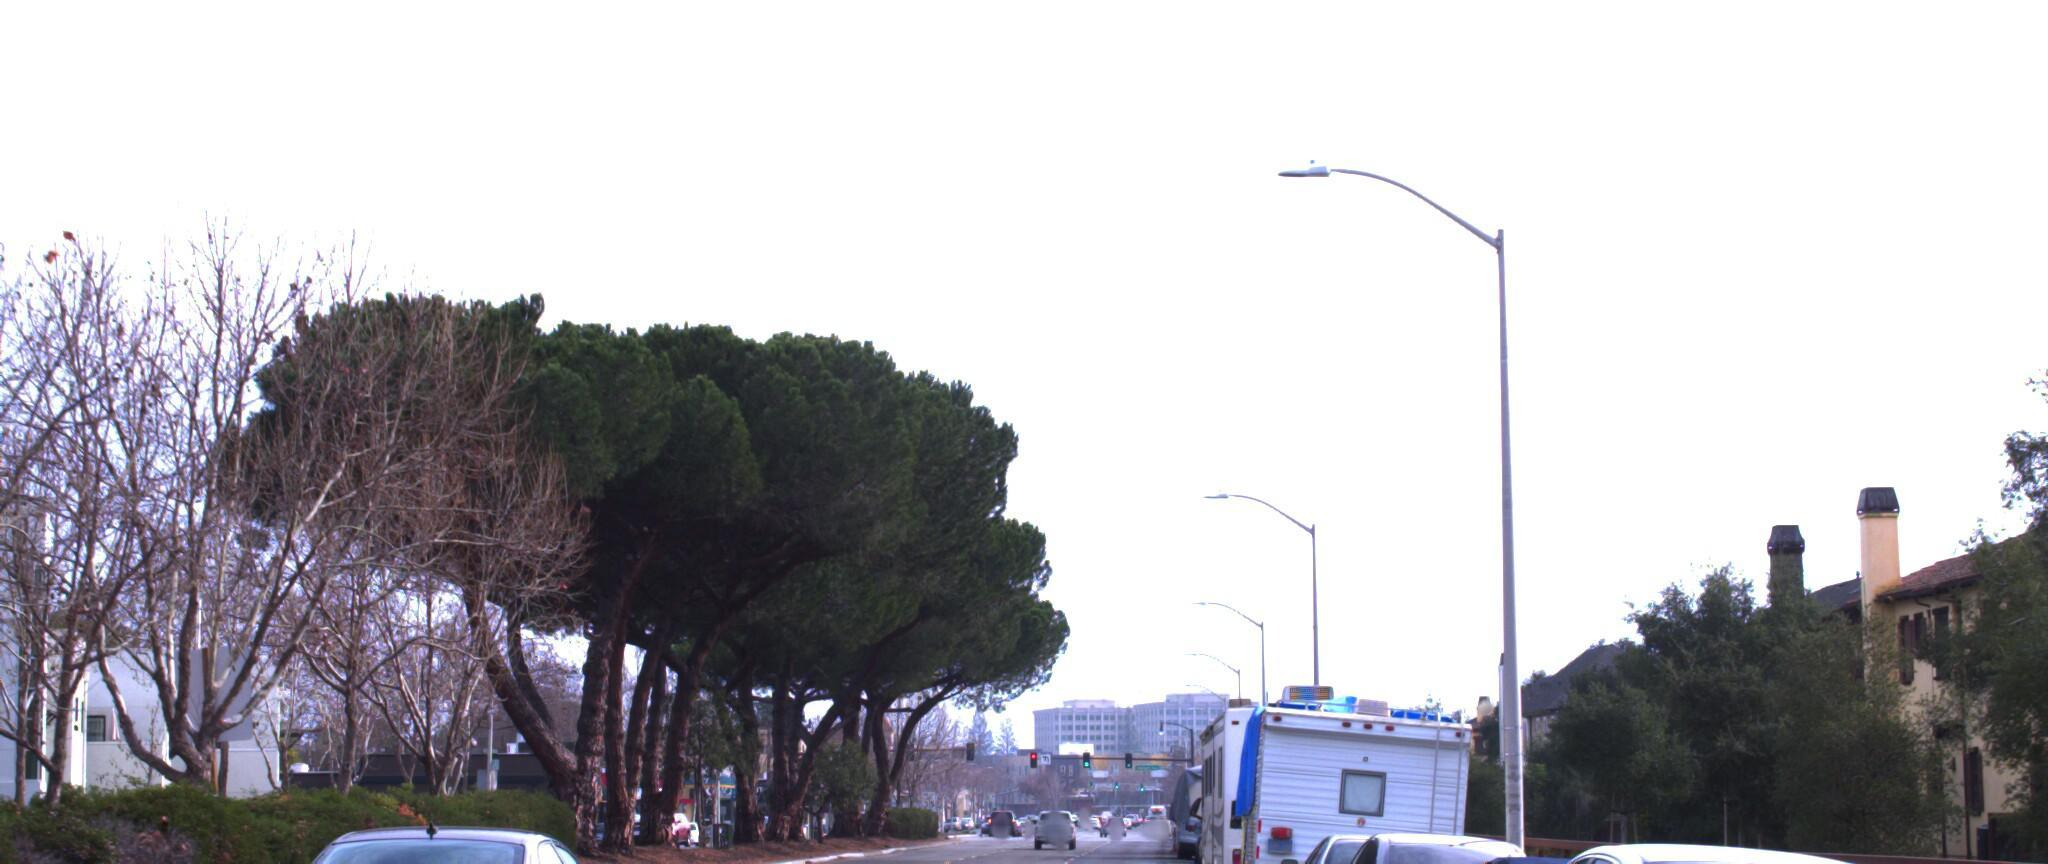car: (1413, 814, 2036, 864), (231, 804, 660, 864), (1294, 803, 1563, 864), (1377, 826, 1763, 864), (1262, 805, 1482, 864), (1831, 850, 2048, 864)
other_vehicle: (1224, 668, 1475, 864), (1192, 653, 1411, 864)
